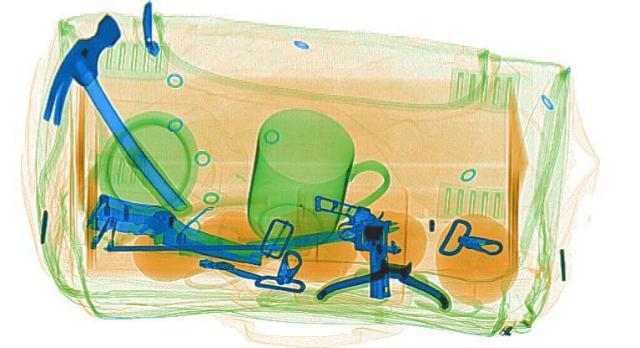Gun: (313, 192, 395, 297)
